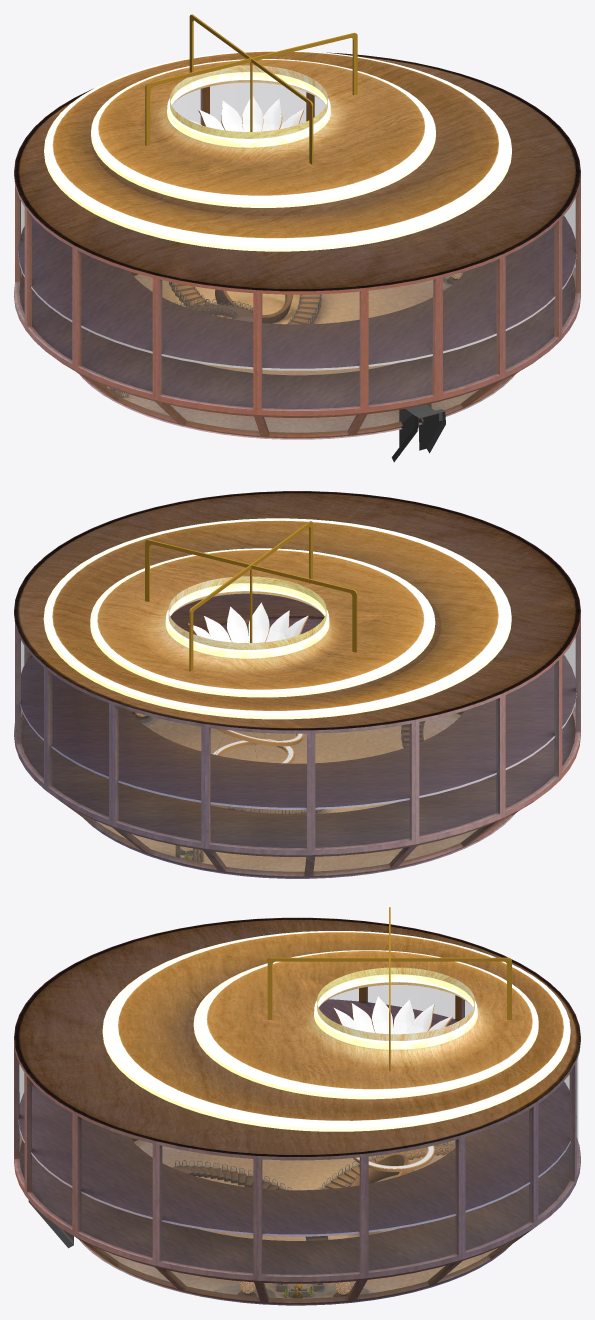
File: Grand galleria.glb
The picture shows the model from 3 angles, top to bottom: view 1: azimuth 30°, elevation 25°; view 2: azimuth 150°, elevation 25°; view 3: azimuth 270°, elevation 25°; orthographic projection.
Parts seen in each view (by area): view 1: Roof, Body, GlassGeo, Lights, door_handle, Flower, Stairs_and_ff; view 2: Roof, Body, GlassGeo, Lights, door_handle, Flower, Stairs_and_ff; view 3: Roof, Body, GlassGeo, Lights, door_handle, Flower, Stairs_and_ff.
Boxes of the visible parts, x1,y1,x2,y2 form: Roof: (14, 51, 580, 291); Body: (14, 52, 580, 439); GlassGeo: (17, 83, 577, 434); Lights: (44, 50, 511, 251); door_handle: (122, 14, 462, 462); Flower: (189, 96, 303, 323); Stairs_and_ff: (104, 271, 464, 407); Roof: (14, 491, 580, 730); Body: (14, 491, 580, 878); GlassGeo: (19, 632, 577, 873); Lights: (43, 518, 511, 763); door_handle: (135, 521, 423, 859); Flower: (188, 602, 307, 649); Stairs_and_ff: (134, 619, 478, 862); Roof: (14, 918, 580, 1156); Body: (14, 917, 580, 1305); GlassGeo: (17, 985, 577, 1300); Lights: (102, 931, 570, 1168); door_handle: (28, 907, 511, 1298); Flower: (333, 996, 451, 1186); Stairs_and_ff: (172, 1143, 455, 1296).
Size of the model in its own units: 0.7149 by 0.3929 by 0.7156.
19 materials, 19 textured.
